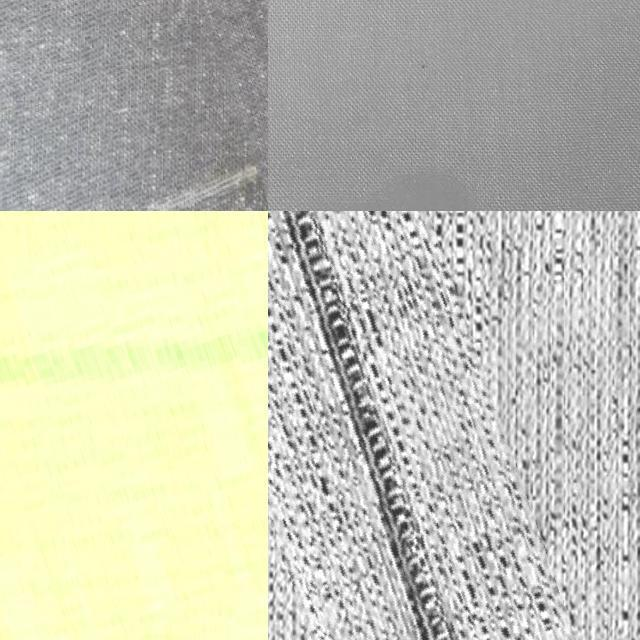stains: (0, 211, 268, 640), (268, 211, 530, 640), (141, 0, 268, 211)
